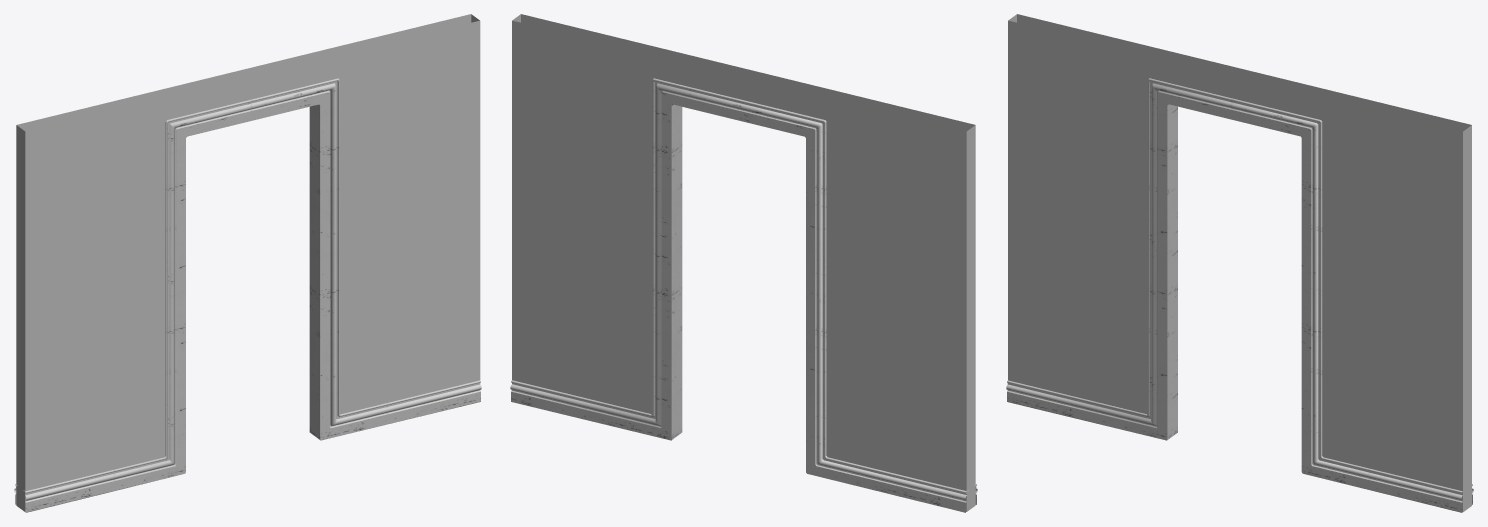
Rendered from WallTile_Door.FBX.
The picture shows the model from 3 angles, left to right: view 1: azimuth 30°, elevation 25°; view 2: azimuth 150°, elevation 25°; view 3: azimuth 330°, elevation 25°; orthographic projection.
Parts seen in each view (by area): view 1: Box002; view 2: Box002; view 3: Box002.
Part boxes in pixels (bbox=[...]): Box002: bbox=[14, 14, 481, 512]; Box002: bbox=[510, 14, 977, 512]; Box002: bbox=[1006, 14, 1473, 512].
Bounding box in the file's own units: 100 × 80 × 4.61.
